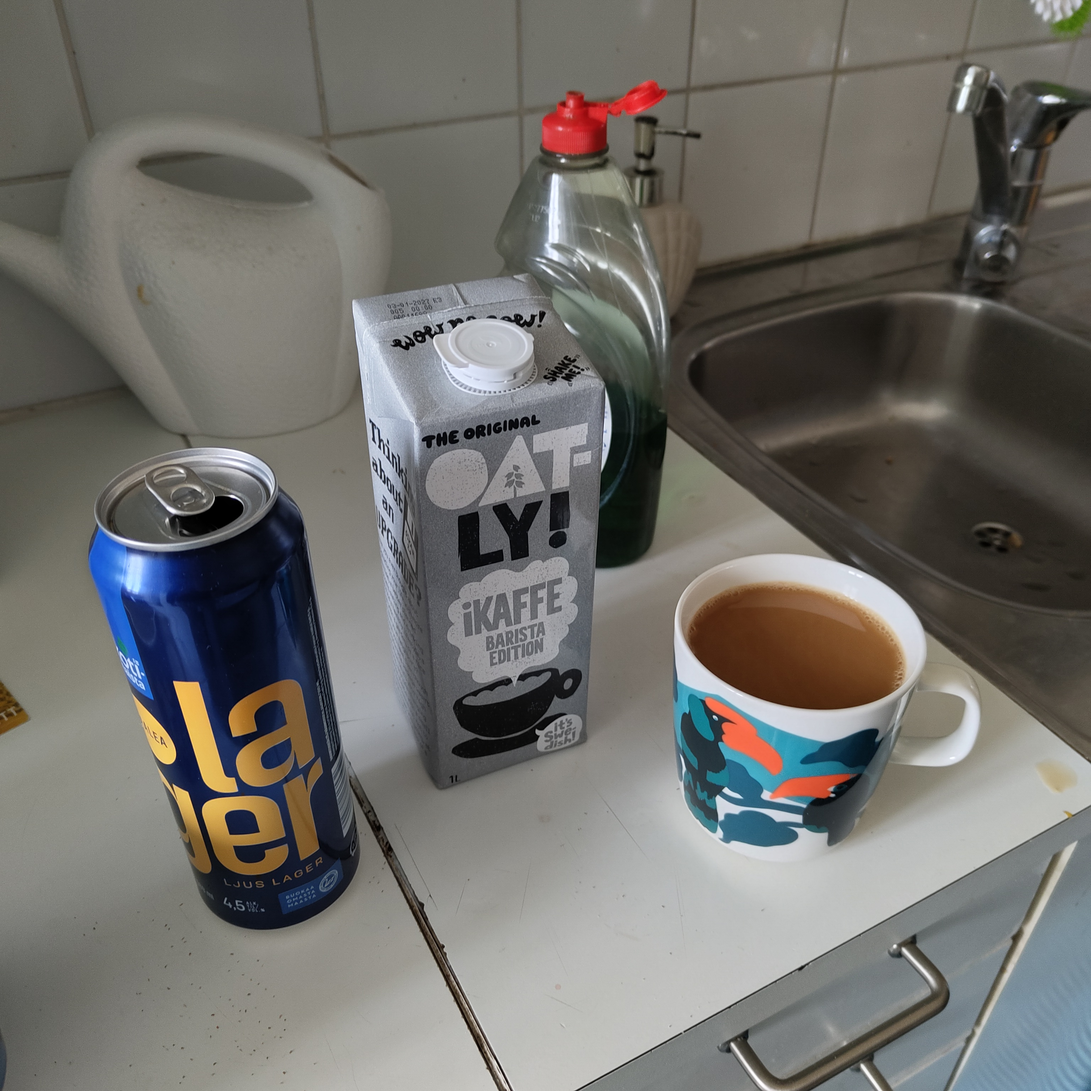Dryckeskartong: (352, 272, 605, 789)
Pantburk: (88, 446, 362, 928)
